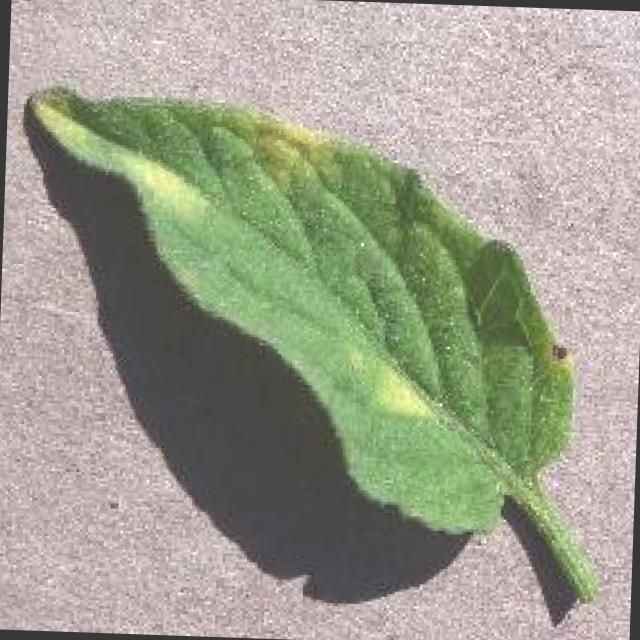leaf mold: (25, 87, 602, 591)
